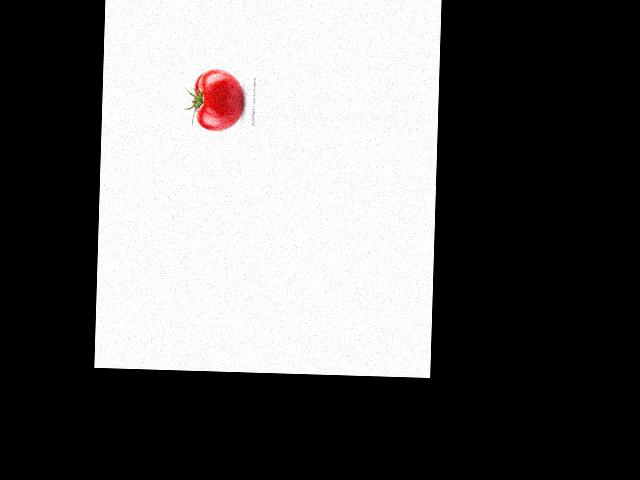tomato: (193, 68, 243, 132)
